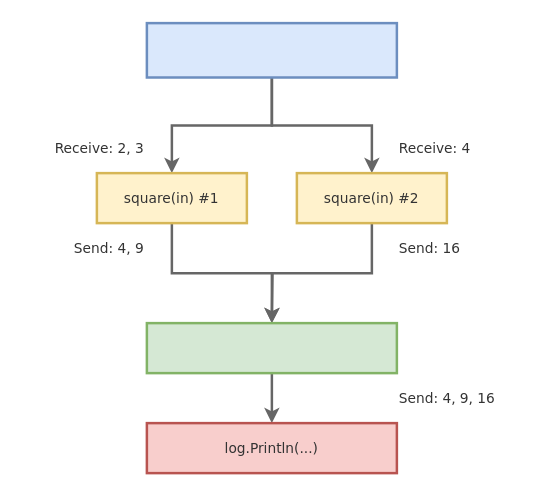
Image size: 543x495. Some labels were removed from this diagram. Each missing label, with the centre of its shape:
"generate(2, 3, 4)" belongs at point 271,49.
"merge(output1, output2)" belongs at point 271,347.
